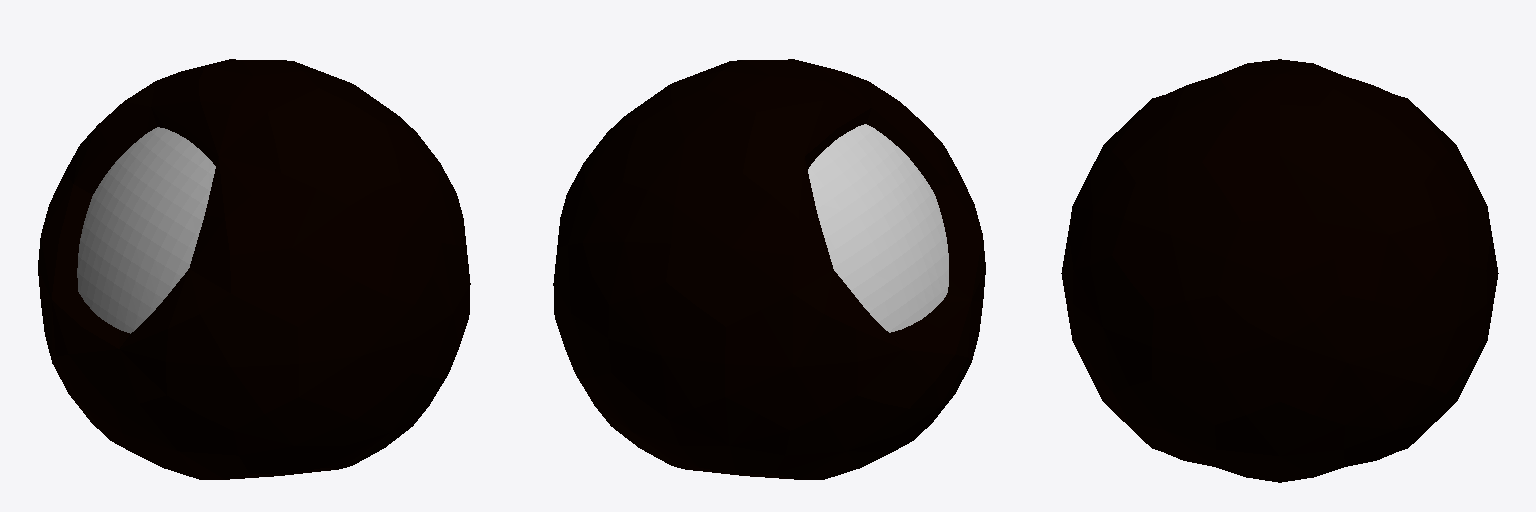
Rendered from void_core.obj.
3 views of the same model, side by side, from view 1: azimuth 30°, elevation 25°; view 2: azimuth 150°, elevation 25°; view 3: azimuth 270°, elevation 25° (orthographic).
Parts seen in each view (by area): view 1: Icosphere, SurfPatch; view 2: Icosphere, SurfPatch; view 3: Icosphere.
Boxes of the visible parts, x1,y1,x2,y2 form: Icosphere: [38, 59, 470, 479]; SurfPatch: [77, 127, 215, 333]; Icosphere: [553, 59, 985, 479]; SurfPatch: [808, 124, 948, 332]; Icosphere: [1061, 59, 1498, 482].
Size of the model in its own units: 14.97 by 13.77 by 15.12.